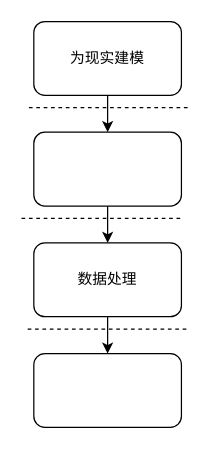
This 212x449 diagram has some shape labels left out. The shapes that lost their labels are listed below. From the top down, each one's centre as x and y in pixels, then its label:
At point 107,168: "数据获取和清洗".
At point 107,389: "数据输出和可视化".
